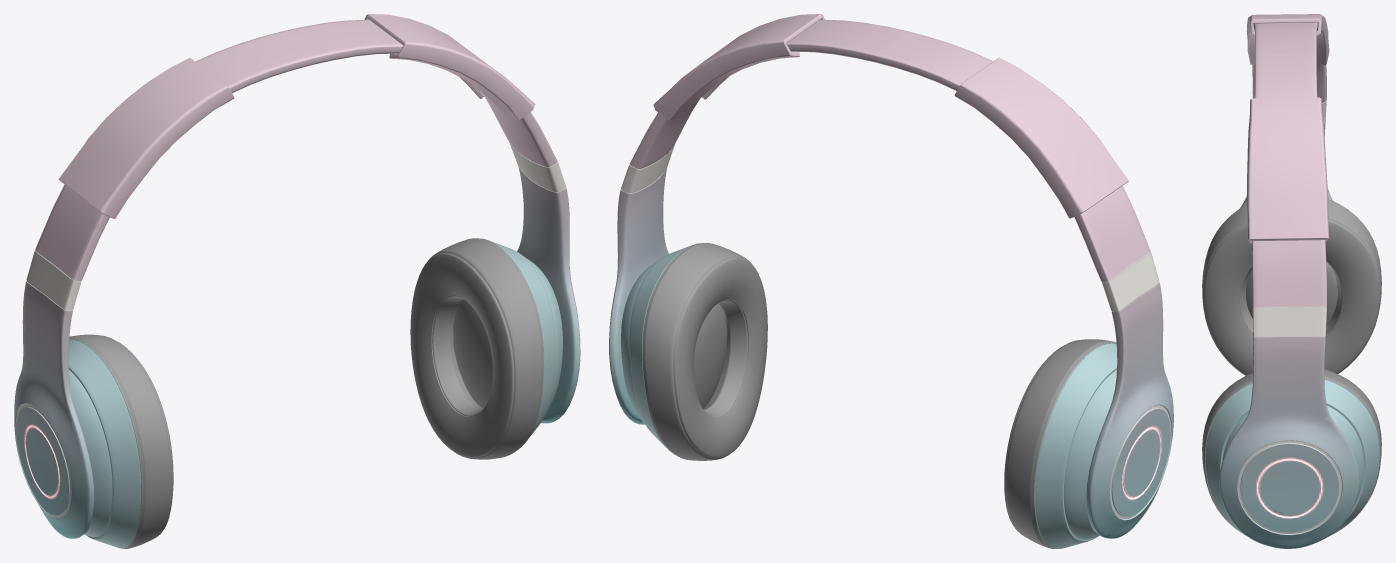
File: Headset(2).gltf
The picture shows the model from 3 angles, left to right: view 1: azimuth 30°, elevation 25°; view 2: azimuth 150°, elevation 25°; view 3: azimuth 270°, elevation 25°; orthographic projection. The views are drawn at different scales.
Parts seen in each view (by area): view 1: Headset(2); view 2: Headset(2); view 3: Headset(2).
Boxes of the visible parts, x1=… form: Headset(2): x1=14, y1=14, x2=580, y2=548; Headset(2): x1=609, y1=14, x2=1173, y2=548; Headset(2): x1=1202, y1=14, x2=1381, y2=548.
Size of the model in its own units: 1.96 by 1.65 by 0.6516.
Materials: 1 (1 with a texture image).
